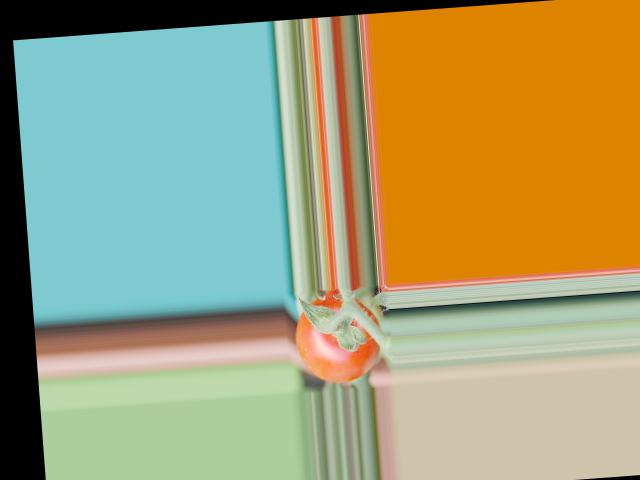tomato: (292, 287, 384, 385)
